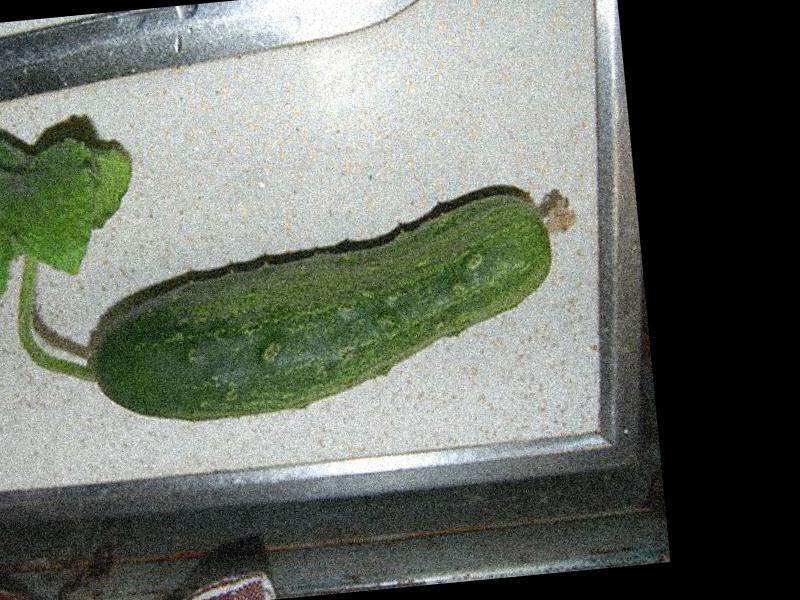Cucumber: (73, 184, 592, 432)
